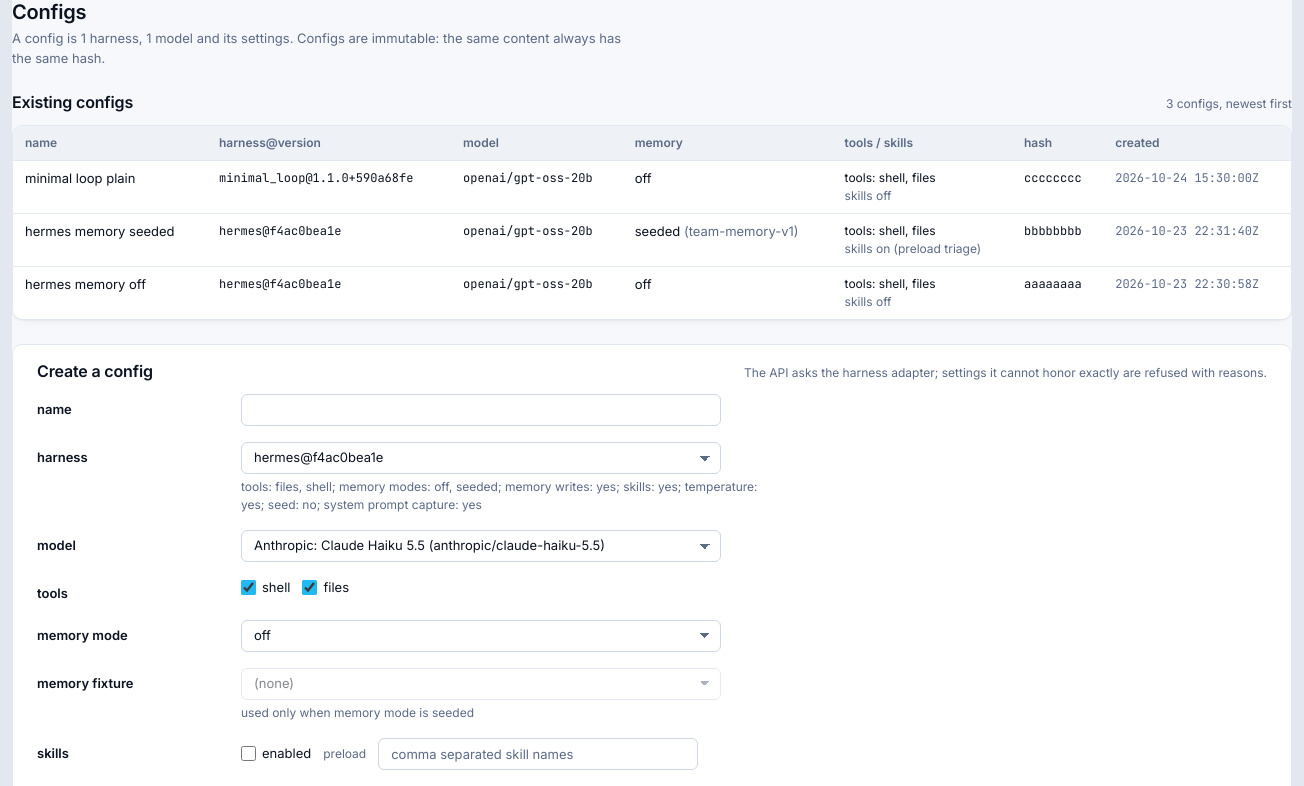
Test: ConfigsView submit › says a config with the same content already exists on a 200 and that the typed name was not stored
Type "my duplicate" into the field with id "cfg-name" at (481, 410), box [241,394,721,426]
(page scrolled)
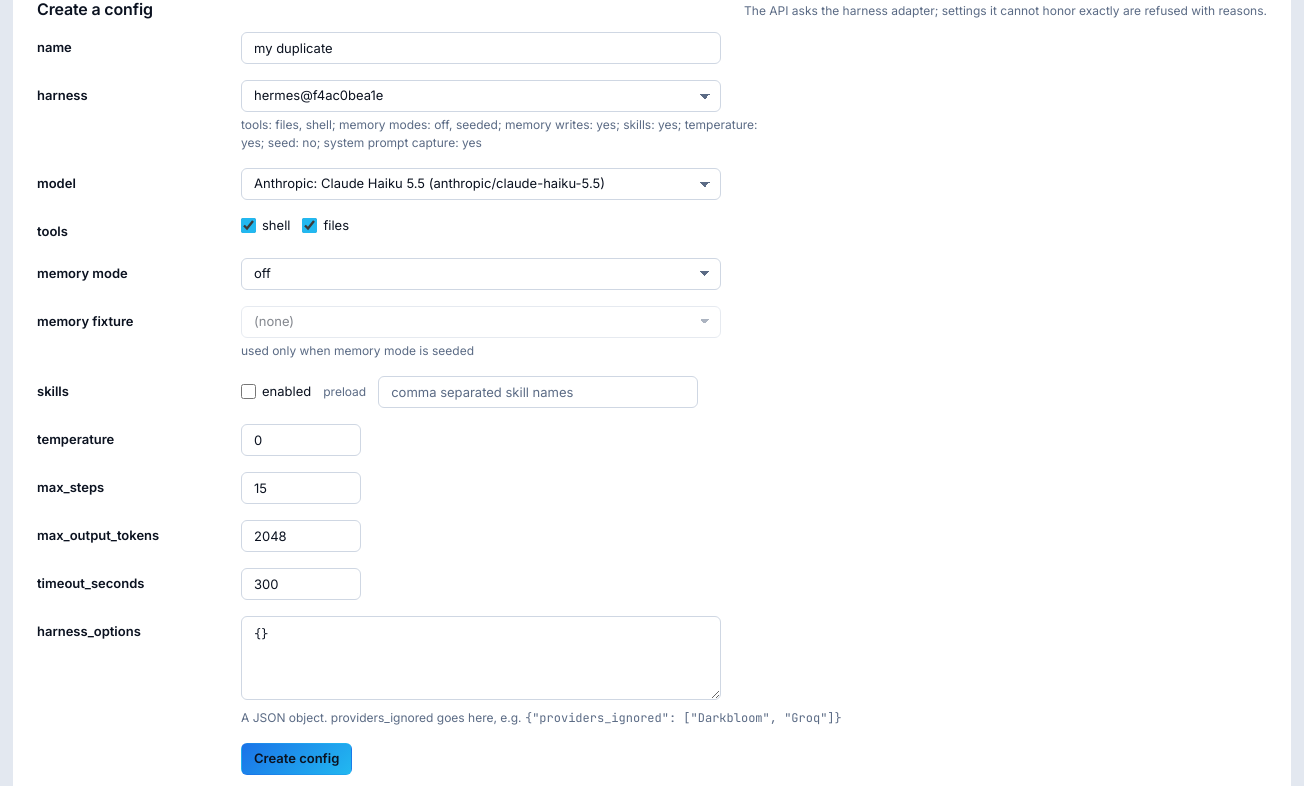
Submit the form, box [37,32,857,774]
(page scrolled)
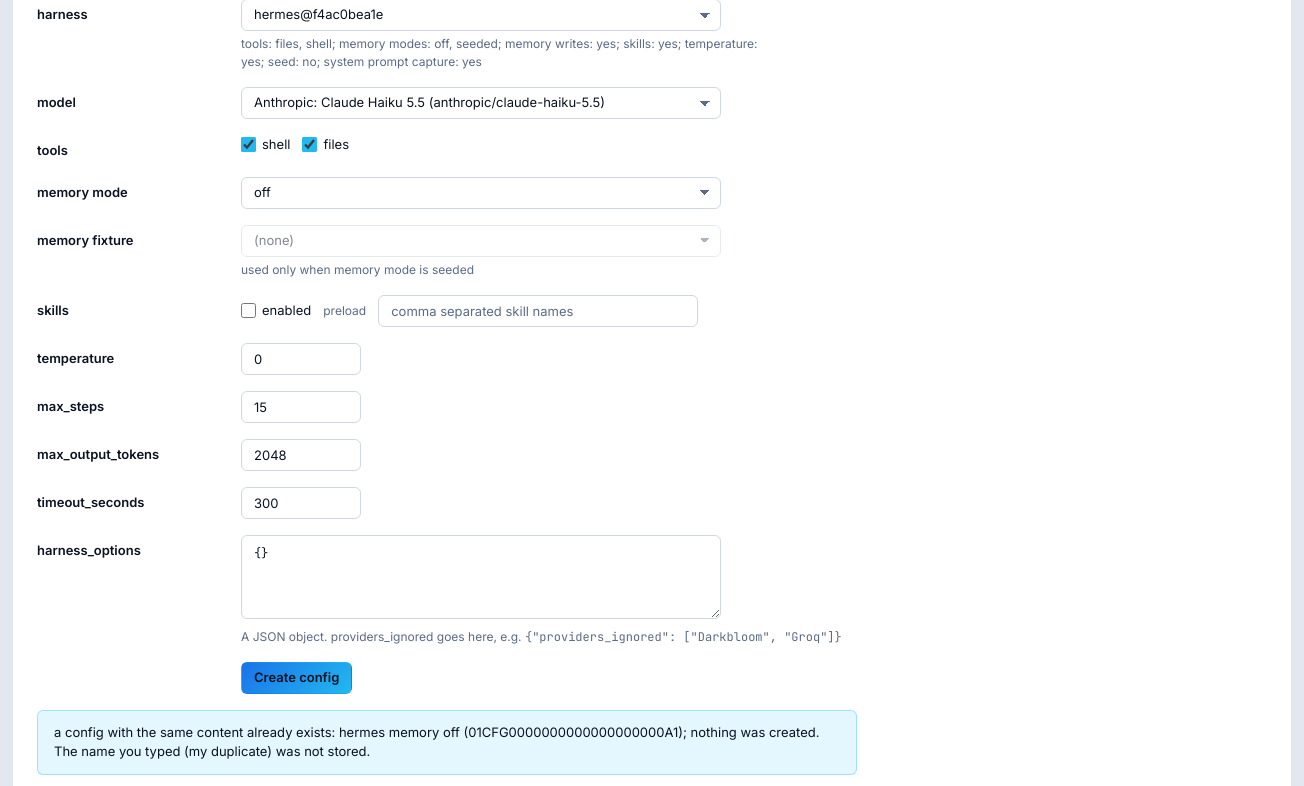
Expected: the message with class "submit-notice" shows "a config with the same content already exists: hermes memory off (01CFG0000000000000000000A1); nothing was created", [54,724,819,759]
Expected: the message with class "submit-notice" shows "my duplicate", [54,724,819,759]
Expected: the message with class "submit-notice" shows "was not stored", [54,724,819,759]
